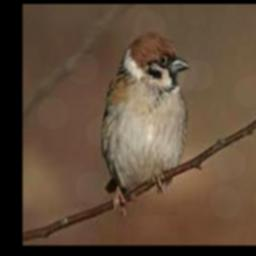Sparrow: (102, 31, 191, 214)
